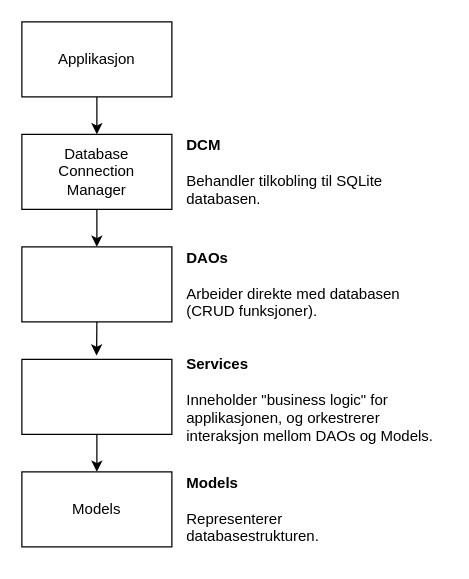
The diagram is 469 pixels wide and 579 high, and some of its shapes have lost their labels. The centre of each missing label's shape, as x and y in pixels:
"Data Access Object (DAOs)" goes at point 96,284.
"Services" goes at point 96,396.
